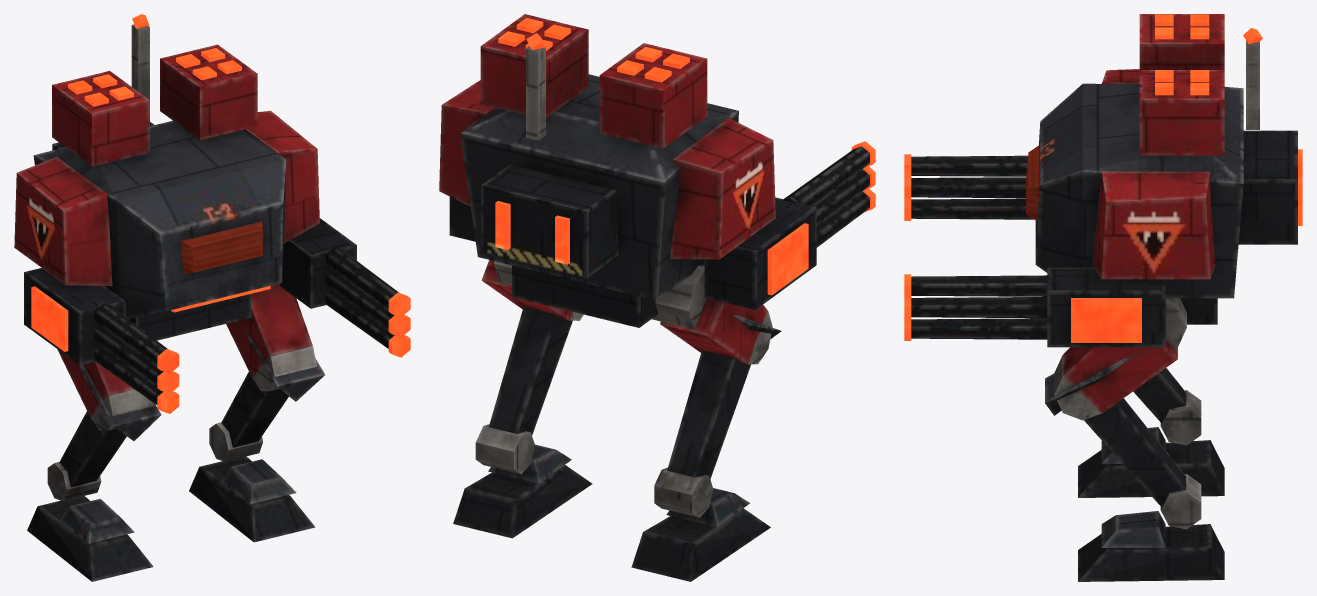
File: u_titan2_e.glb
The picture shows the model from 3 angles, left to right: view 1: azimuth 30°, elevation 25°; view 2: azimuth 150°, elevation 25°; view 3: azimuth 270°, elevation 25°; orthographic projection. The views are drawn at different scales.
Visible parts, largest first — view 1: u_titan2_e; view 2: u_titan2_e; view 3: u_titan2_e.
Boxes of the visible parts, x1,y1,x2,y2 form: u_titan2_e: (14,14,410,581); u_titan2_e: (439,14,875,581); u_titan2_e: (904,14,1302,581).
Size of the model in its own units: 1.66 by 2.65 by 1.89.
1 material, 1 textured.
